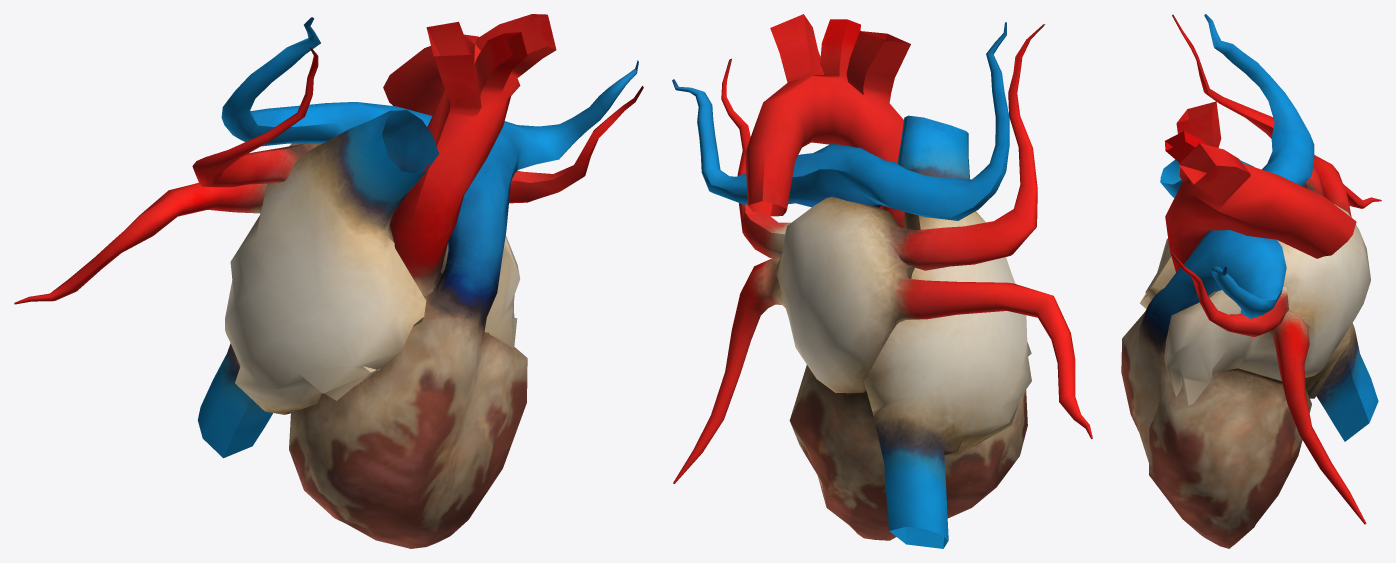
File: lool.glb
3 views of the same model, side by side, from view 1: azimuth 30°, elevation 25°; view 2: azimuth 150°, elevation 25°; view 3: azimuth 270°, elevation 25° (orthographic). The views are drawn at different scales.
Visible parts, largest first — view 1: Circulatory_Heart_Geo; view 2: Circulatory_Heart_Geo; view 3: Circulatory_Heart_Geo.
Part boxes in pixels (left/top/right/bottom): Circulatory_Heart_Geo: left=14, top=14, right=643, bottom=548; Circulatory_Heart_Geo: left=672, top=14, right=1092, bottom=548; Circulatory_Heart_Geo: left=1121, top=14, right=1381, bottom=548.
Size of the model in its own units: 0.0321 by 0.0326 by 0.0161.
1 material, 1 textured.
